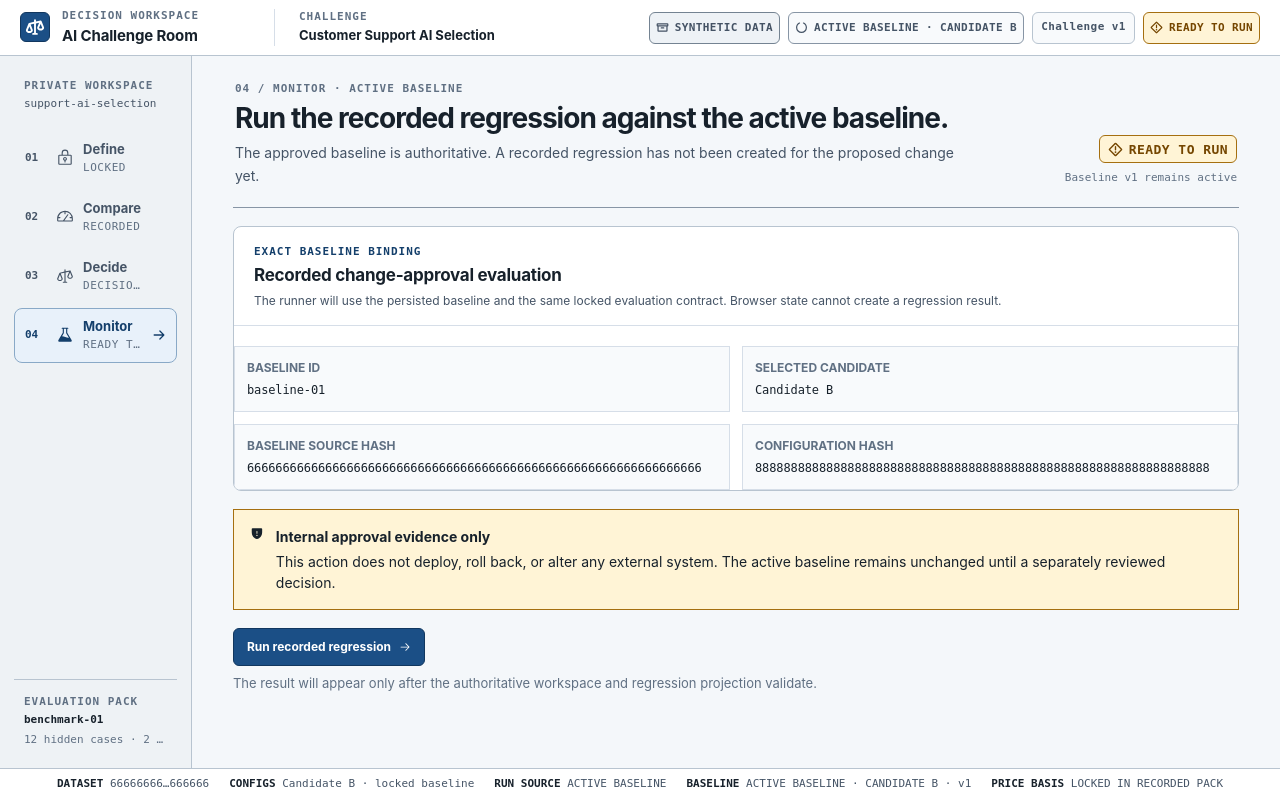
Test case: 권위 artifact 기반 Review·Decide·Monitor 라우트 › 회귀 시작이 accepted여도 reload에 실제 regression이 없으면 READY 상태로 되돌리지 않고 보류한다
Click the button "Run recorded regression".
click(329, 647)  # box [233,628,425,666]
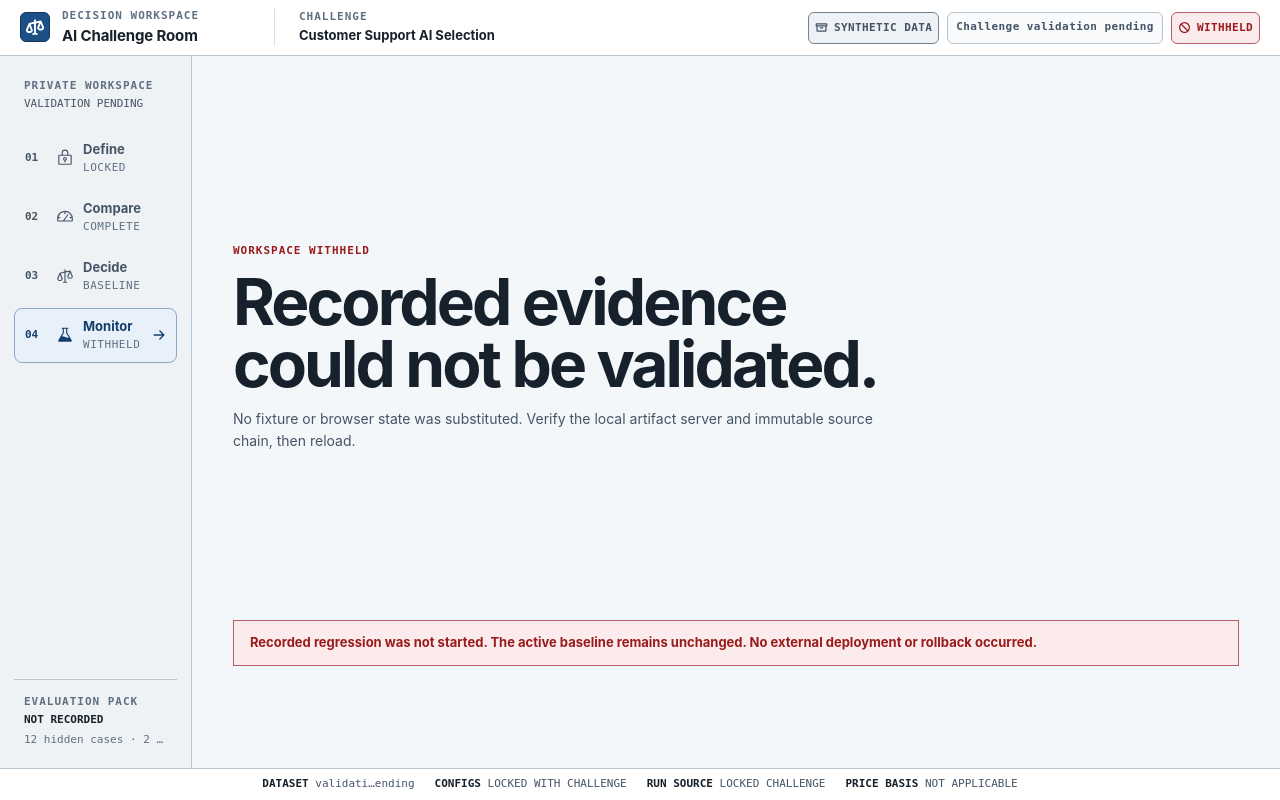
Result: the heading "Recorded evidence could not be validated." is shown at [233,271,924,396]
Result: the button "Run recorded regression" is gone
